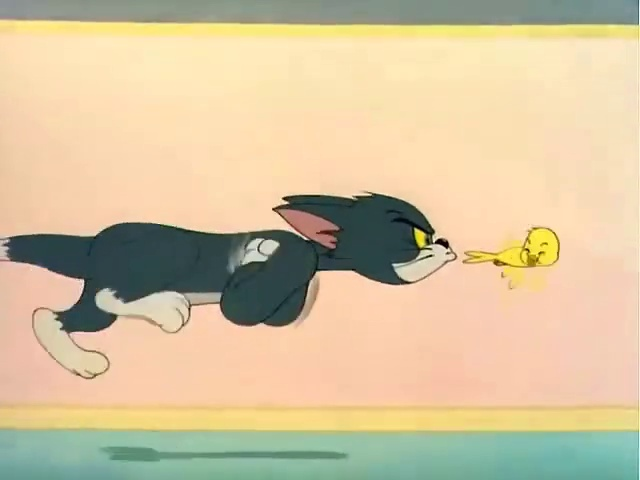tom: (5, 128, 466, 423)
